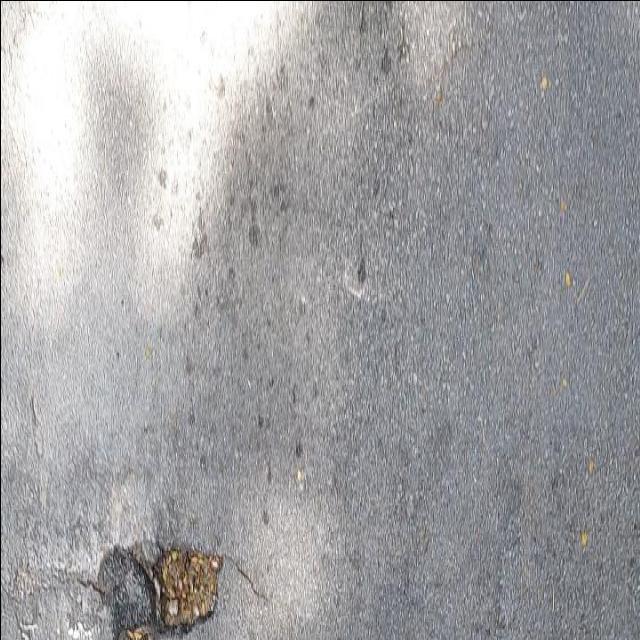potholes: (0, 528, 259, 640)
